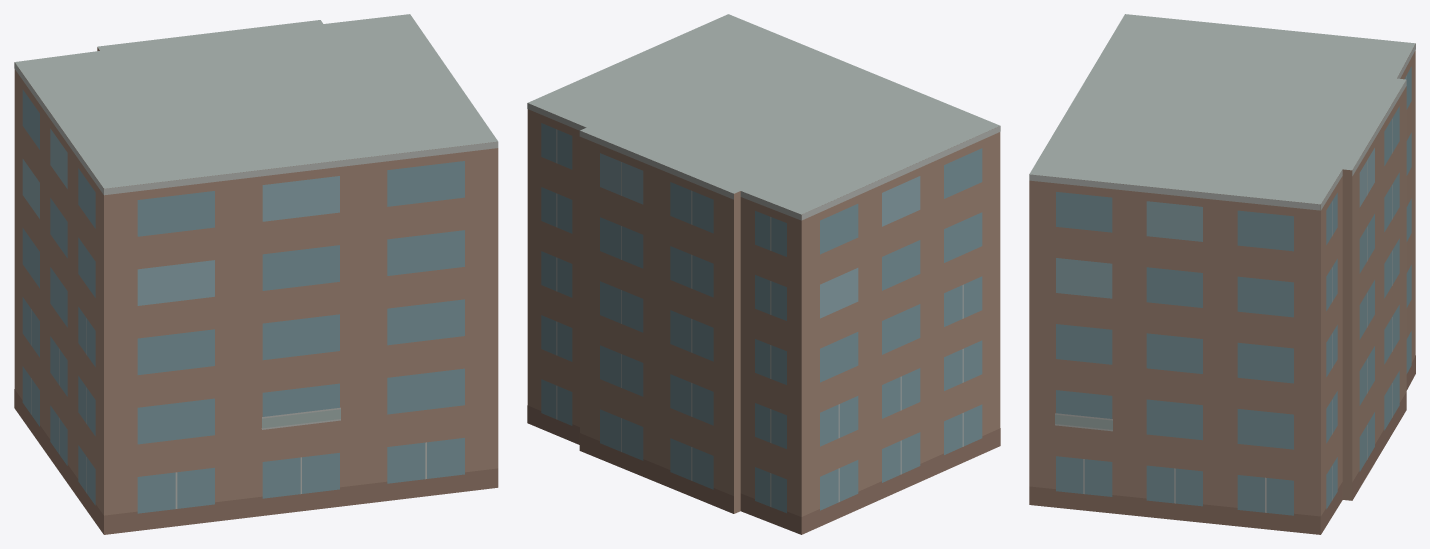
The model's file is survey-upis-32557094.glb.
3 views of the same model, side by side, from view 1: azimuth 30°, elevation 25°; view 2: azimuth 150°, elevation 25°; view 3: azimuth 270°, elevation 25° (orthographic). The views are drawn at different scales.
Parts seen in each view (by area): view 1: survey-upis-32557094.tmp; view 2: survey-upis-32557094.tmp; view 3: survey-upis-32557094.tmp.
Boxes of the visible parts, box(x1,y1,x2,y2) form: survey-upis-32557094.tmp: box(14, 14, 498, 534); survey-upis-32557094.tmp: box(527, 14, 1000, 534); survey-upis-32557094.tmp: box(1029, 14, 1415, 534).
Size of the model in its own units: 16.07 by 13 by 13.79.
